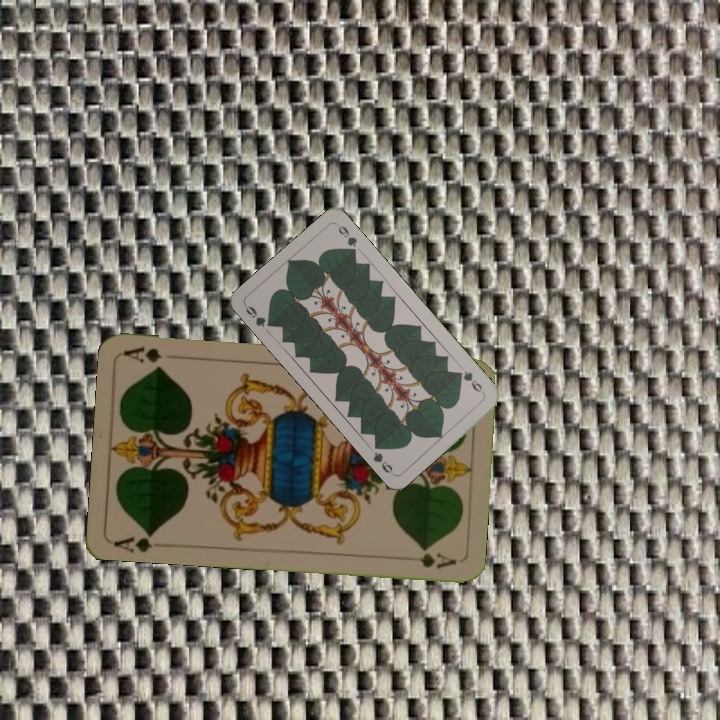G9: (453, 366, 487, 397), (241, 301, 277, 330)
GA: (110, 527, 158, 554)
